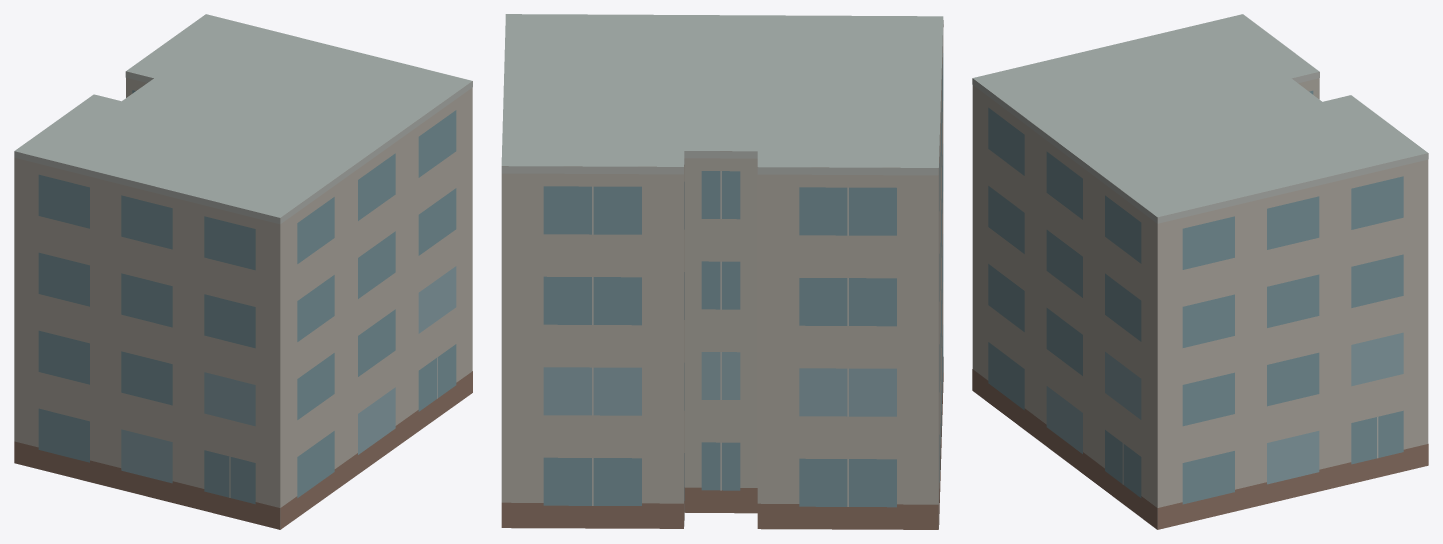
Rendered from survey-upis-32939825.glb.
3 views of the same model, side by side, from view 1: azimuth 30°, elevation 25°; view 2: azimuth 150°, elevation 25°; view 3: azimuth 270°, elevation 25° (orthographic). The views are drawn at different scales.
Parts seen in each view (by area): view 1: survey-upis-32939825.tmp; view 2: survey-upis-32939825.tmp; view 3: survey-upis-32939825.tmp.
Boxes of the visible parts, x1,y1,x2,y2 form: survey-upis-32939825.tmp: [14, 14, 472, 529]; survey-upis-32939825.tmp: [501, 14, 943, 529]; survey-upis-32939825.tmp: [972, 14, 1428, 529].
Bounding box in the file's own units: 16.54 × 11.85 × 15.68.
